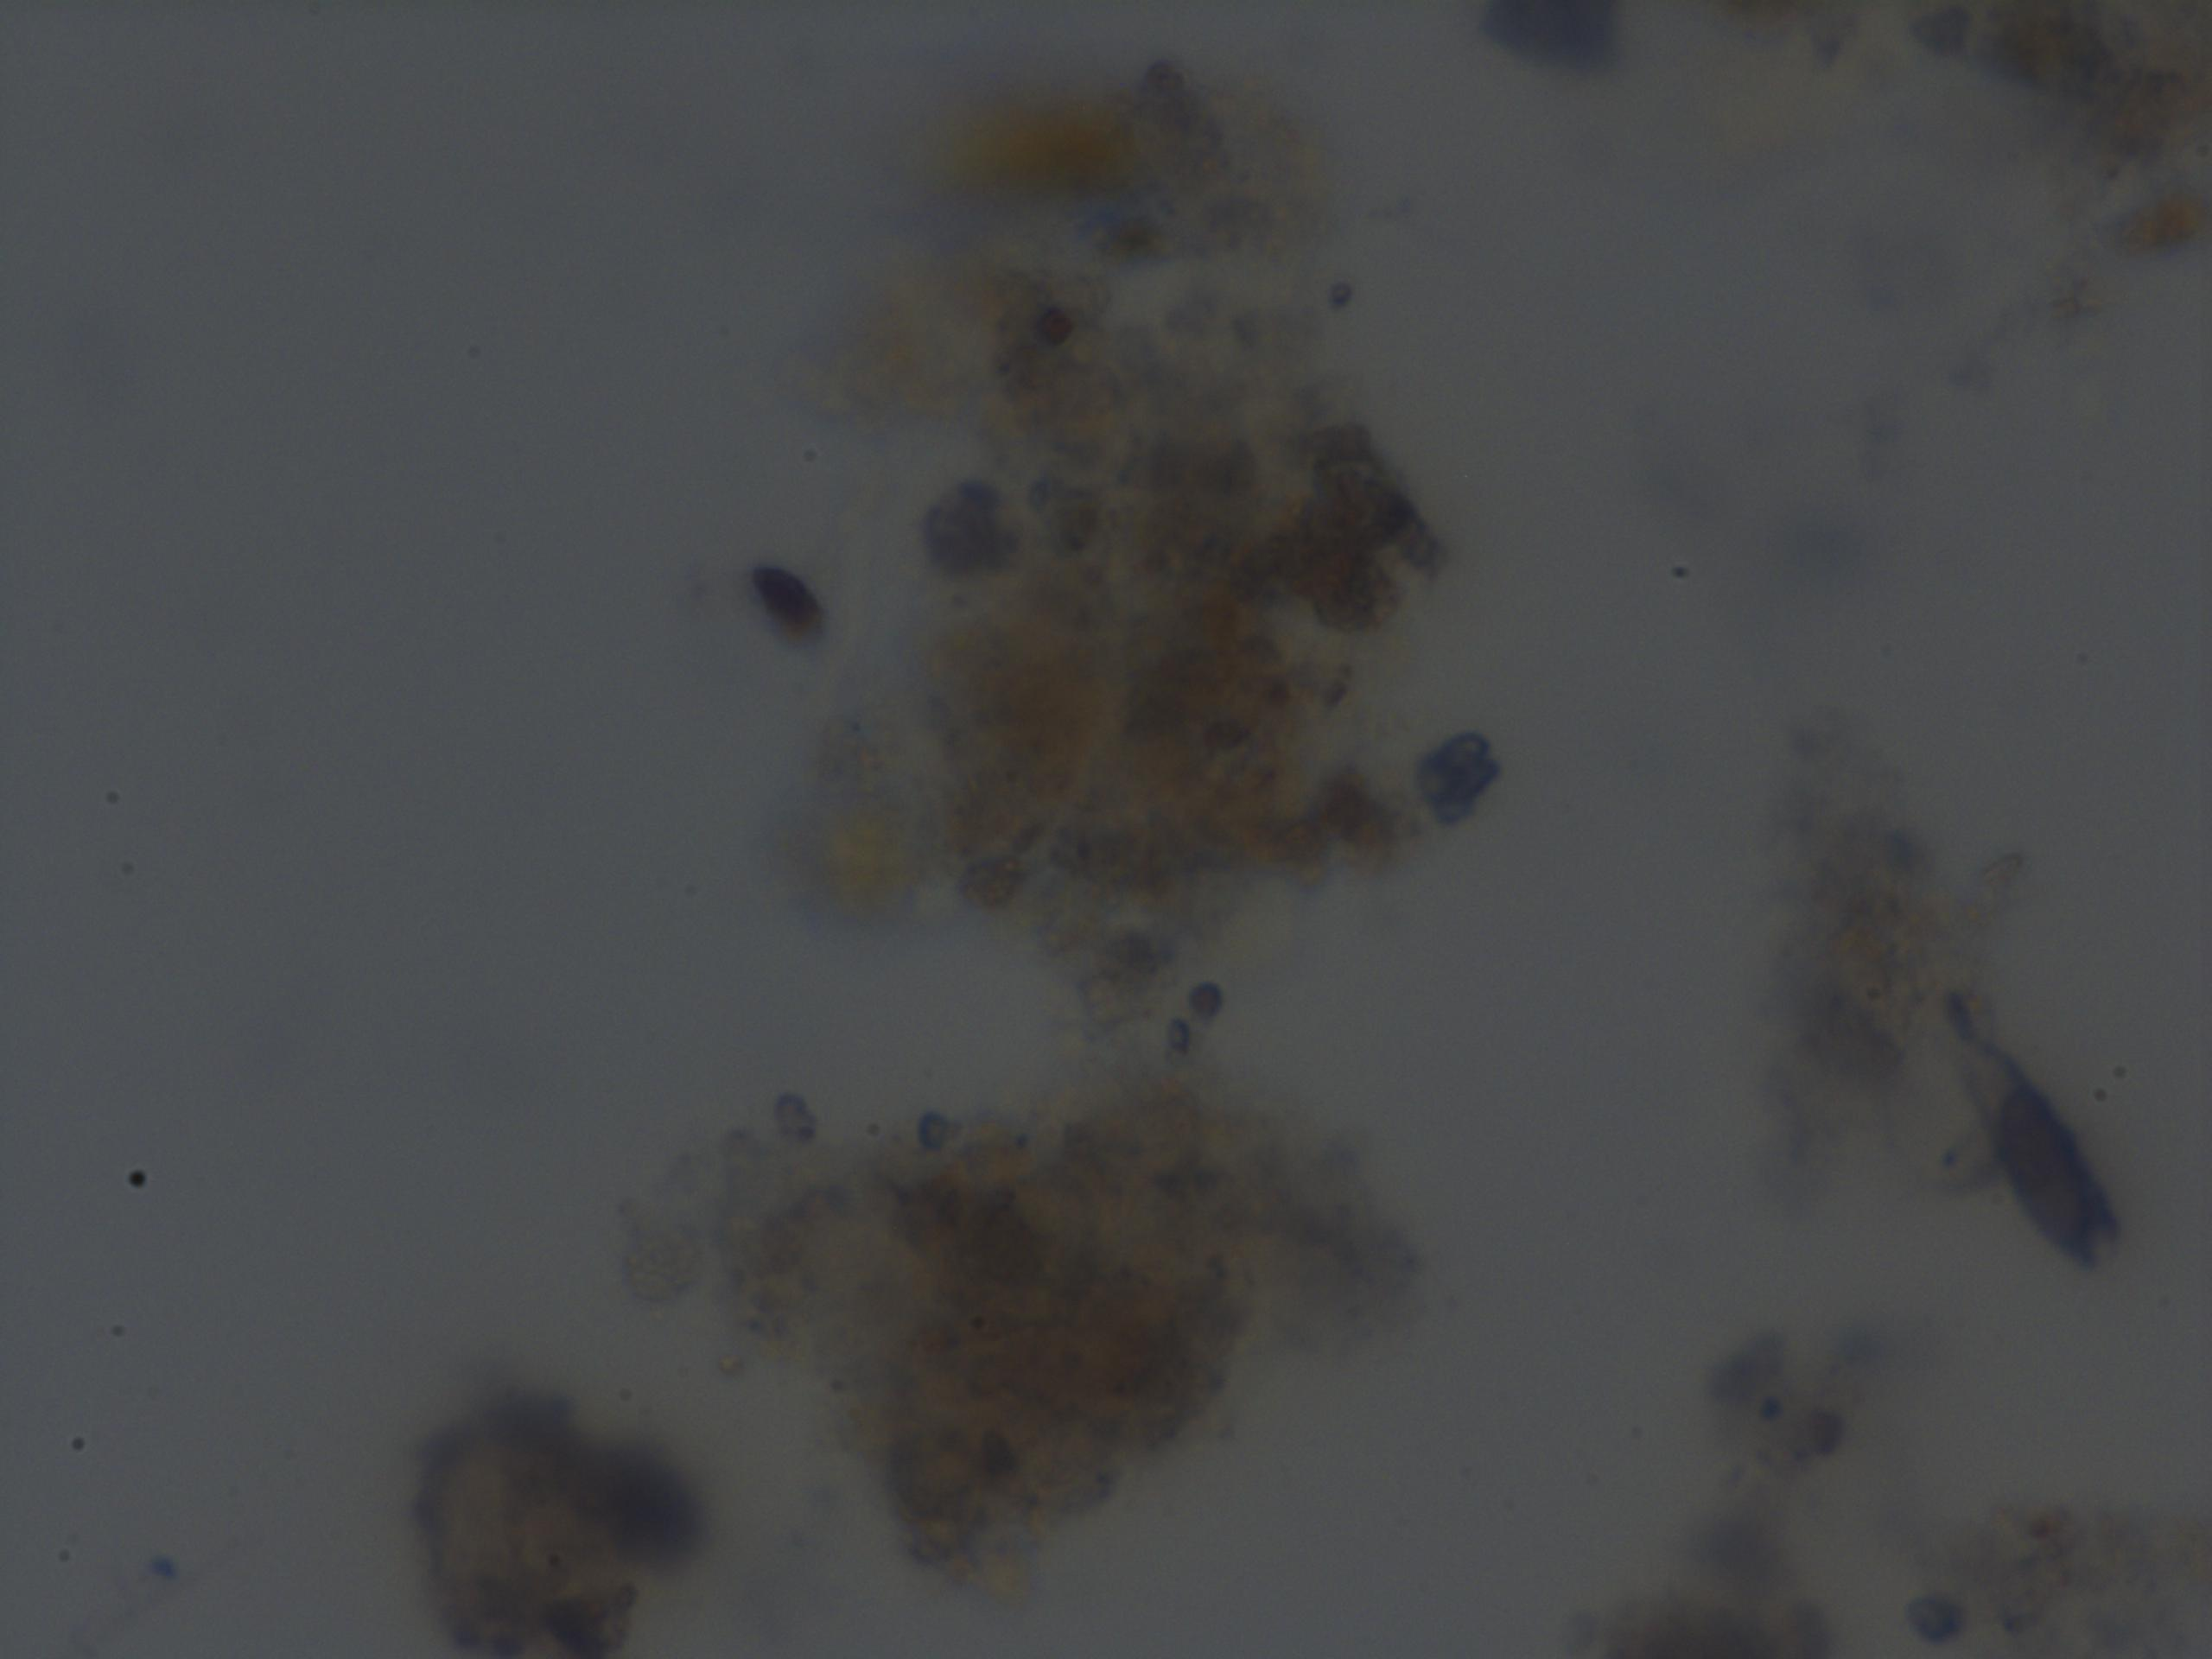open_floc: (399, 0, 1541, 1659)
